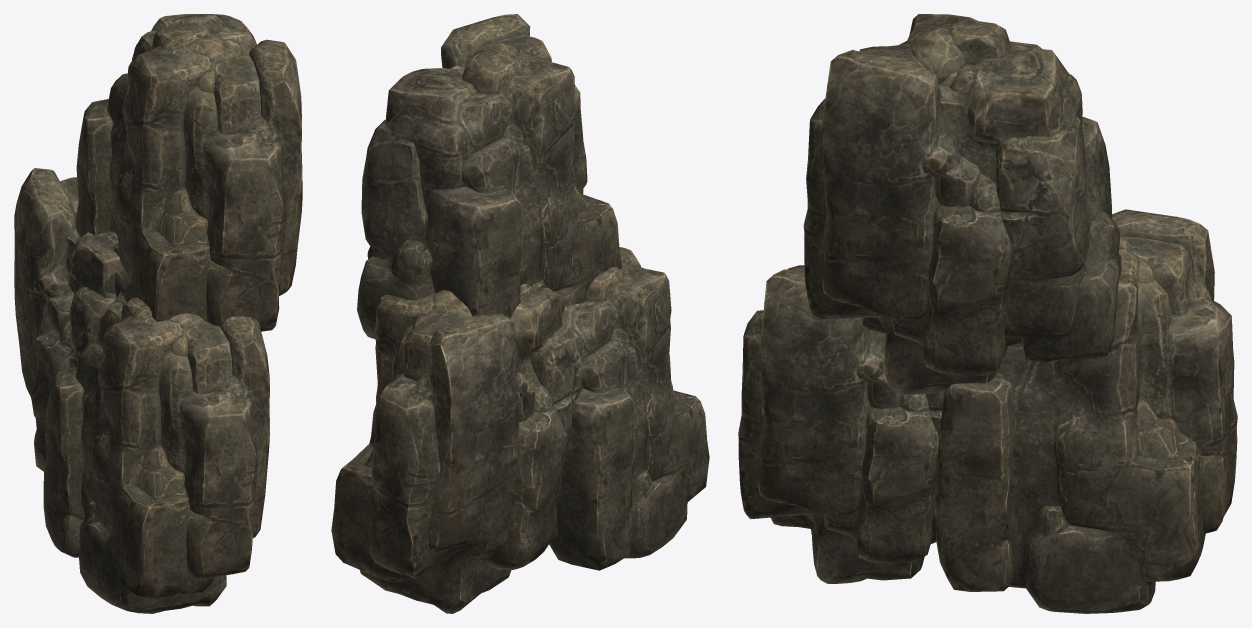
File: rockcliff-3e3b2d1c.glb
3 renders of one model, left to right at view 1: azimuth 30°, elevation 25°; view 2: azimuth 150°, elevation 25°; view 3: azimuth 270°, elevation 25°, orthographic. The views are drawn at different scales.
Visible parts, largest first — view 1: rockcliff1, rockcliff1_2, rockcliff1_1; view 2: rockcliff1_1, rockcliff1_2, rockcliff1; view 3: rockcliff1_2, rockcliff1_1, rockcliff1.
Part boxes in pixels (left/top/right/bottom): rockcliff1: left=43, top=292, right=269, bottom=613; rockcliff1_2: left=75, top=14, right=302, bottom=331; rockcliff1_1: left=14, top=168, right=122, bottom=471; rockcliff1_1: left=331, top=284, right=582, bottom=613; rockcliff1_2: left=357, top=14, right=622, bottom=339; rockcliff1: left=549, top=247, right=709, bottom=570; rockcliff1_2: left=803, top=14, right=1121, bottom=394; rockcliff1_1: left=932, top=209, right=1237, bottom=613; rockcliff1: left=738, top=265, right=944, bottom=583.
Bounding box in the file's own units: 0.4683 × 1 × 0.7763.
Materials: 1 (1 with a texture image).
